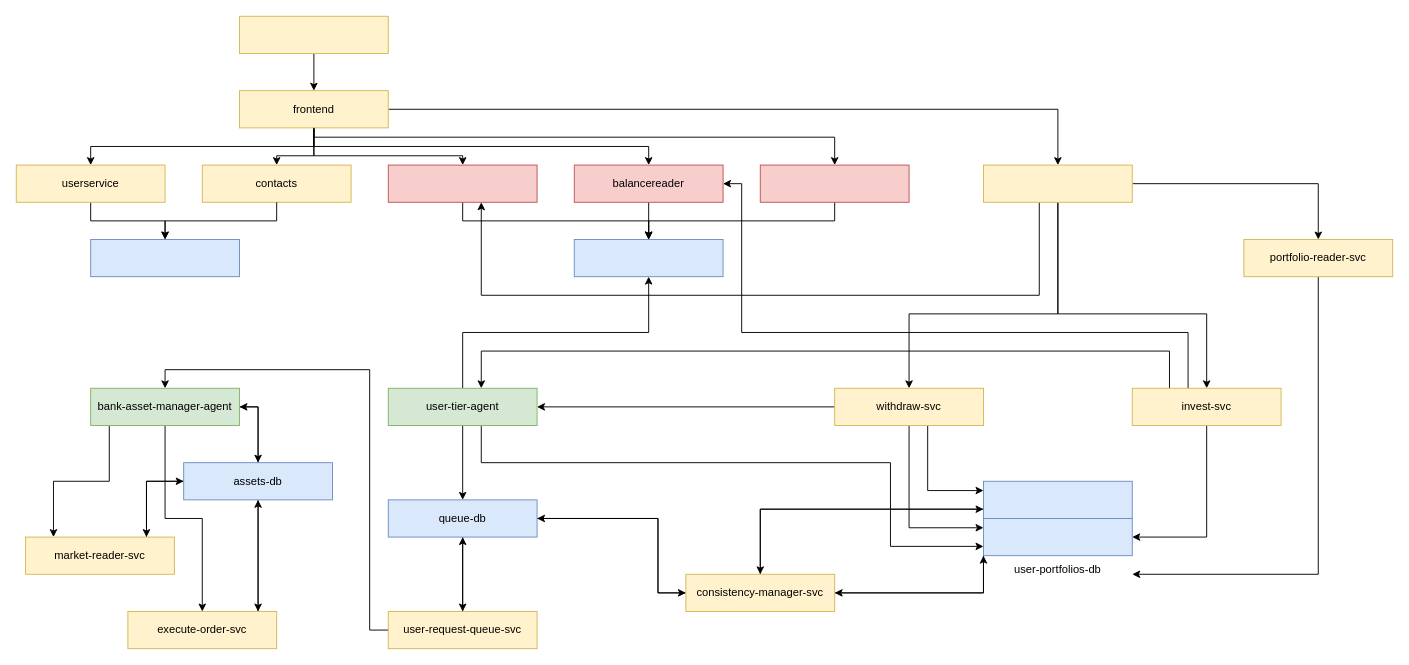
The diagram is 1409 pixels wide and 665 high, and some of its shapes have lost their labels. Here are the shapes that lost their labels. From the top down, the centre of each, then its label:
the point at 313,34: loadgen
the point at 462,183: ledgerwriter
the point at 834,183: transactionhistory
the point at 1057,183: investment-manager-svc
the point at 164,258: accounts-db
the point at 648,258: ledger-db
the point at 1057,499: user-portfolio-tb
the point at 1057,537: portfolio-transactions-tb
